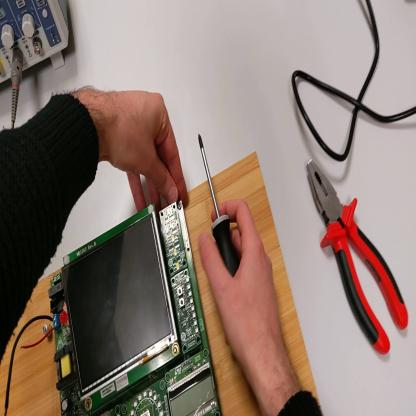hand: (200, 199, 284, 377), (99, 88, 192, 213)
low voltage board: (6, 199, 224, 416)
oscilloscope: (2, 1, 71, 86)
pliers: (308, 161, 411, 357)
screwdriver-: (198, 134, 240, 280)
working area: (2, 153, 319, 416)
